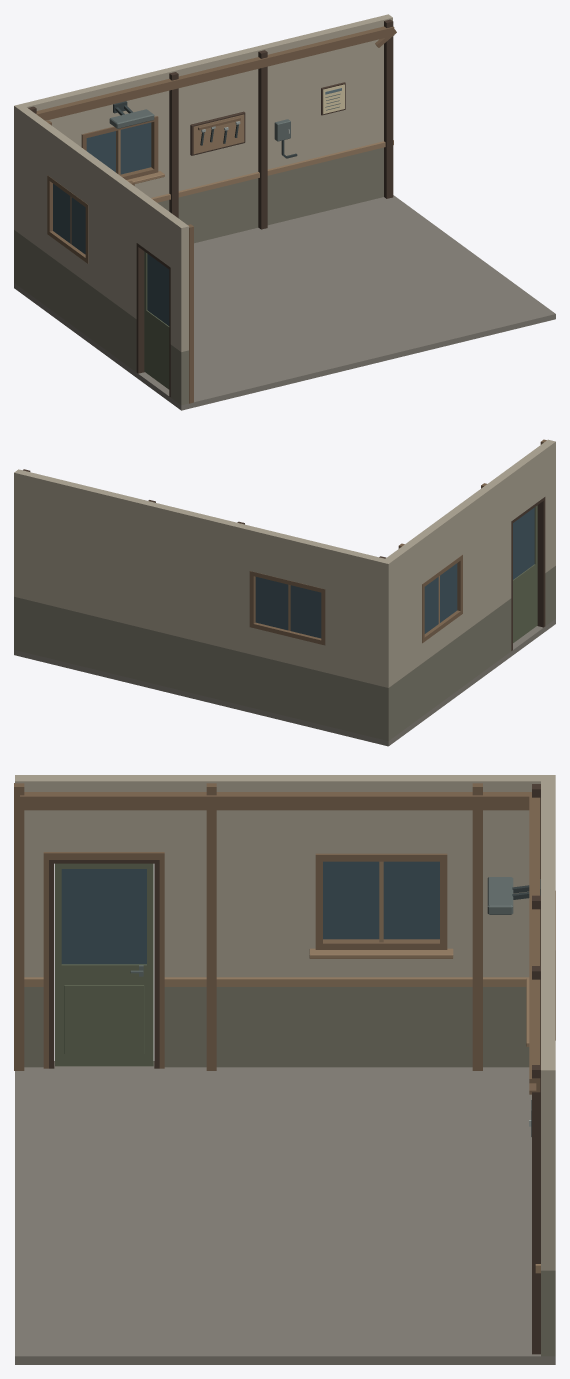
The model's file is TurnerInterior_Architecture.fbx.
3 views of the same model, one above another, from view 1: azimuth 30°, elevation 25°; view 2: azimuth 150°, elevation 25°; view 3: azimuth 270°, elevation 25° (orthographic). The views are drawn at different scales.
Visible parts, largest first — view 1: TurnerInterior_Floor, TurnerInterior_BackWall, TurnerInterior_LeftWall, TurnerInterior_TimberFraming, TurnerInterior_BackWindow, TurnerInterior_EntranceDoor, TurnerInterior_LeftWindow, TurnerInterior_ToolBoard, TurnerInterior_EntranceFrame, TurnerInterior_WorkLight, TurnerInterior_MaintenanceNotice; view 2: TurnerInterior_BackWall, TurnerInterior_LeftWall, TurnerInterior_BackWindow, TurnerInterior_Floor, TurnerInterior_EntranceDoor, TurnerInterior_LeftWindow, TurnerInterior_EntranceFrame; view 3: TurnerInterior_Floor, TurnerInterior_LeftWall, TurnerInterior_TimberFraming, TurnerInterior_EntranceDoor, TurnerInterior_LeftWindow, TurnerInterior_BackWall, TurnerInterior_EntranceFrame, TurnerInterior_WorkLight.
Boxes of the visible parts, x1,y1,x2,y2 form: TurnerInterior_Floor: [14, 195, 555, 410]; TurnerInterior_BackWall: [14, 14, 392, 285]; TurnerInterior_LeftWall: [18, 107, 189, 405]; TurnerInterior_TimberFraming: [28, 19, 396, 403]; TurnerInterior_BackWindow: [81, 116, 164, 183]; TurnerInterior_EntranceDoor: [144, 251, 169, 389]; TurnerInterior_LeftWindow: [47, 175, 88, 263]; TurnerInterior_ToolBoard: [190, 111, 245, 155]; TurnerInterior_EntranceFrame: [136, 243, 170, 396]; TurnerInterior_WorkLight: [109, 101, 154, 128]; TurnerInterior_MaintenanceNotice: [321, 82, 345, 115]; TurnerInterior_BackWall: [14, 469, 392, 740]; TurnerInterior_LeftWall: [385, 439, 555, 737]; TurnerInterior_BackWindow: [249, 571, 325, 645]; TurnerInterior_Floor: [14, 619, 555, 746]; TurnerInterior_EntranceDoor: [513, 505, 537, 642]; TurnerInterior_LeftWindow: [422, 555, 462, 643]; TurnerInterior_EntranceFrame: [511, 497, 545, 650]; TurnerInterior_Floor: [15, 1061, 555, 1364]; TurnerInterior_LeftWall: [15, 775, 540, 1067]; TurnerInterior_TimberFraming: [14, 783, 540, 1354]; TurnerInterior_EntranceDoor: [55, 863, 153, 1066]; TurnerInterior_LeftWindow: [309, 853, 453, 958]; TurnerInterior_BackWall: [541, 775, 555, 1356]; TurnerInterior_EntranceFrame: [43, 852, 164, 1068]; TurnerInterior_WorkLight: [487, 877, 540, 914].
Size of the model in its own units: 6.65 by 3.09 by 5.15.
